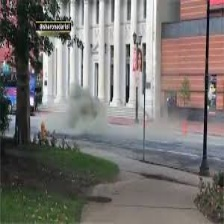smoke: (63, 88, 111, 137), (145, 109, 177, 141)
